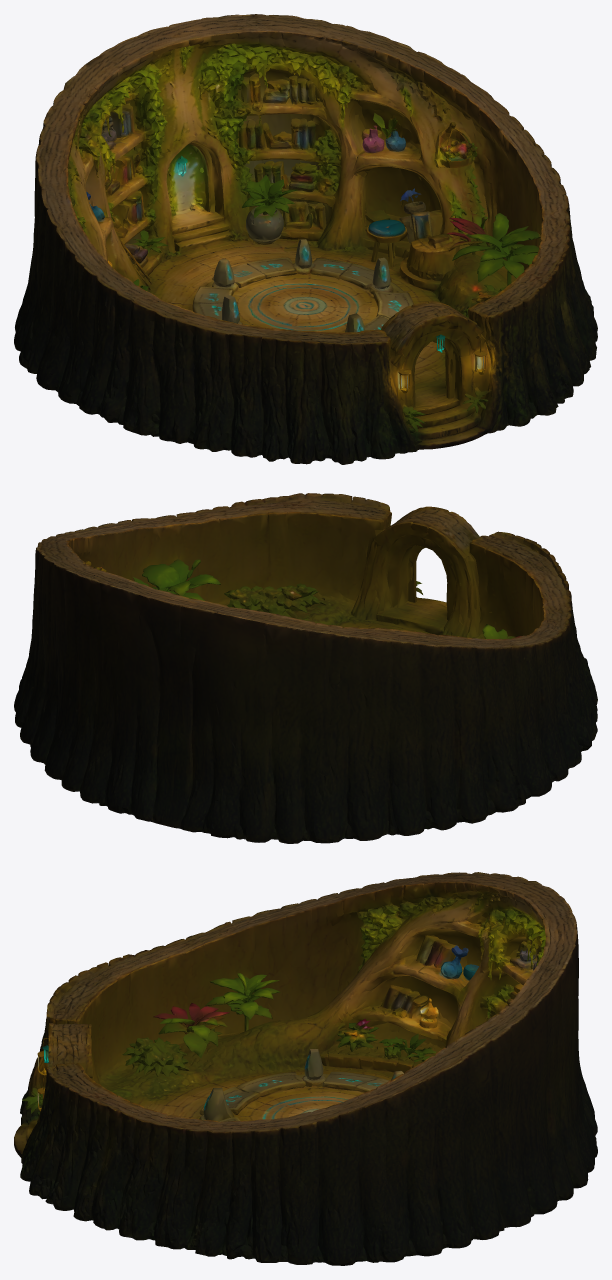
3 renders of one model, top to bottom at view 1: azimuth 30°, elevation 25°; view 2: azimuth 150°, elevation 25°; view 3: azimuth 270°, elevation 25°, orthographic.
Visible parts, largest first — view 1: model; view 2: model; view 3: model.
Part boxes in pixels (x1,y1,x2,y2): model: [14, 14, 597, 464]; model: [14, 493, 597, 843]; model: [14, 872, 597, 1265].
Bounding box in the file's own units: 85.44 × 34.45 × 85.87.
Materials: 1 (1 with a texture image).
